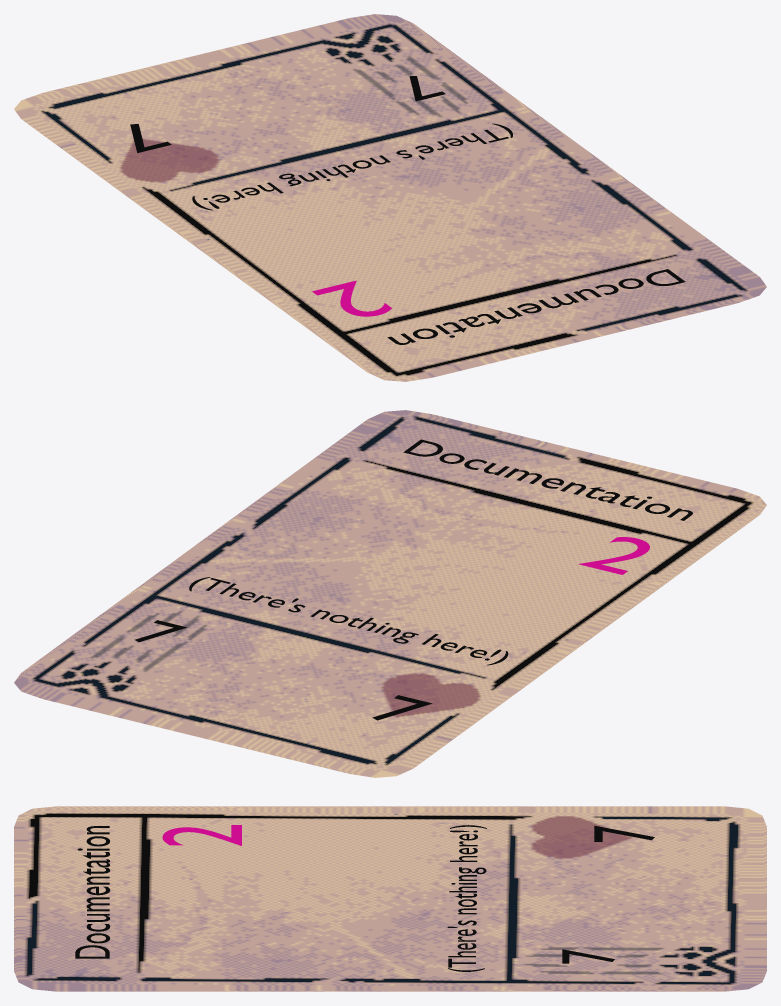
Rendered from Documentation.glb.
3 views of the same model, one above another, from view 1: azimuth 30°, elevation 25°; view 2: azimuth 150°, elevation 25°; view 3: azimuth 270°, elevation 25° (orthographic). The views are drawn at different scales.
Visible parts, largest first — view 1: Documentation; view 2: Documentation; view 3: Documentation.
Boxes of the visible parts, left/top/right/bottom form: Documentation: left=14, top=14, right=766, bottom=381; Documentation: left=14, top=410, right=766, bottom=777; Documentation: left=14, top=806, right=766, bottom=991.
Size of what is drawn, in the model's own units: 44.93 by 0.4028 by 77.22.
Materials: 5 (1 with a texture image).
